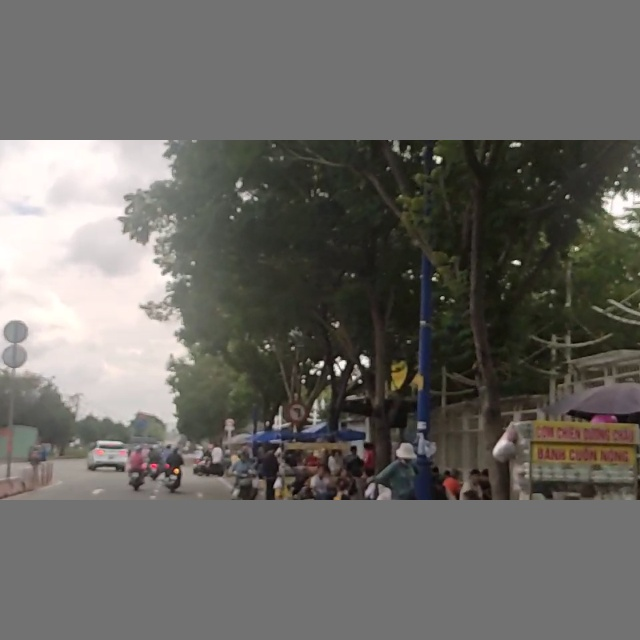P.123a: (284, 401, 308, 424)
